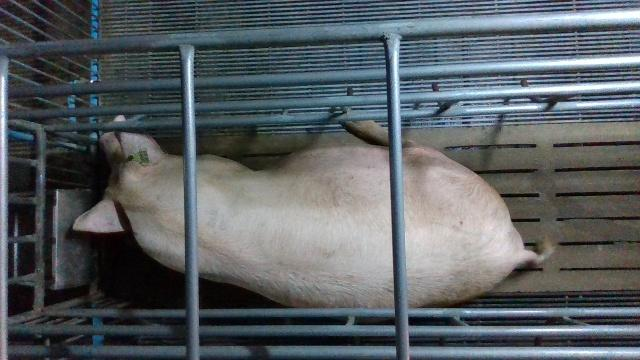sow-sit: (73, 116, 554, 311)
